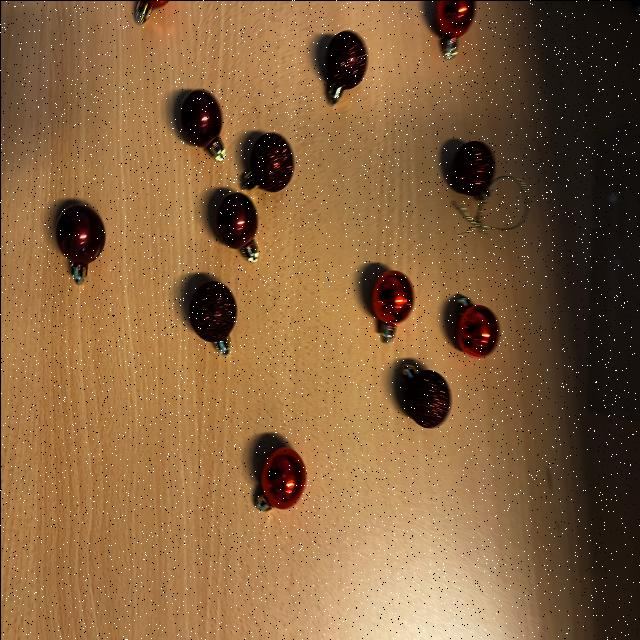glitter-bauble: (396, 356, 456, 436), (185, 276, 239, 362), (318, 24, 370, 108), (444, 135, 504, 205), (238, 131, 297, 195), (189, 280, 235, 356), (401, 363, 450, 427), (241, 131, 293, 191), (326, 30, 366, 105), (452, 139, 495, 199)
glossy-bauble: (248, 438, 314, 520), (364, 263, 418, 347), (421, 0, 483, 67), (451, 290, 501, 364), (254, 446, 306, 511), (370, 269, 414, 343), (427, 0, 474, 58), (455, 293, 497, 357)
wine-red-bauble: (52, 198, 108, 290), (174, 85, 230, 171), (210, 188, 264, 268), (55, 204, 105, 284), (180, 88, 225, 160), (214, 192, 258, 261)
